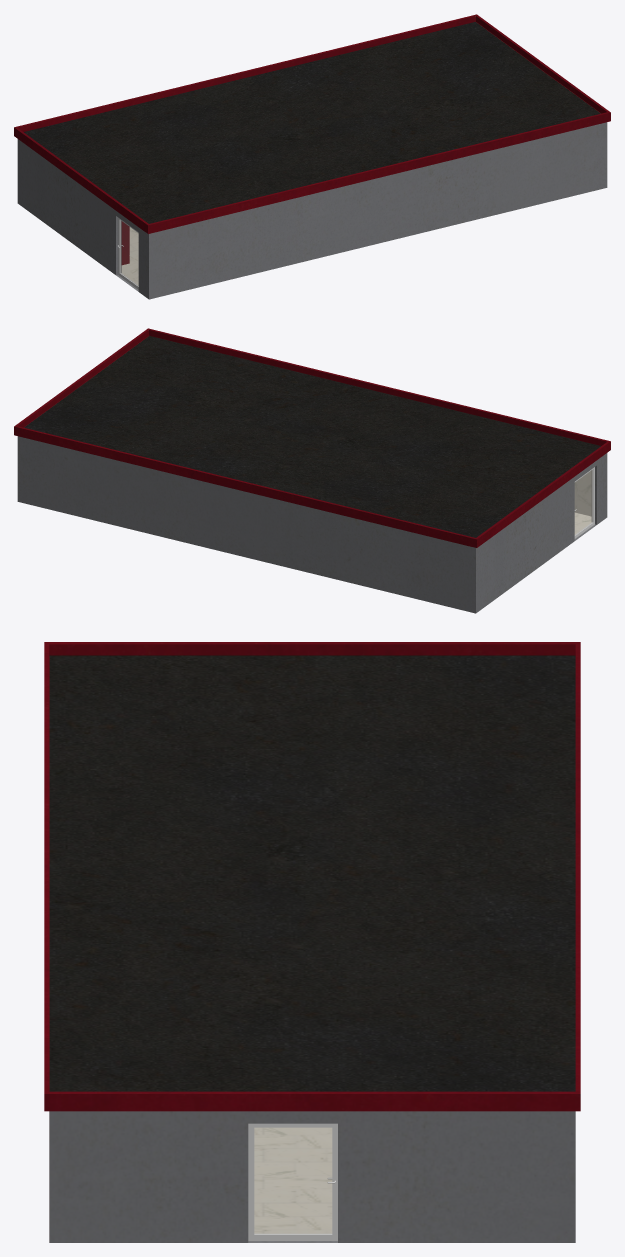
File: shop.glb
3 views of the same model, one above another, from view 1: azimuth 30°, elevation 25°; view 2: azimuth 150°, elevation 25°; view 3: azimuth 270°, elevation 25° (orthographic). The views are drawn at different scales.
Visible parts, largest first — view 1: shop, door_2; view 2: shop, door_2; view 3: shop, door_1.
Part boxes in pixels (x1,y1,x2,y2): shop: (14, 14, 610, 299); door_2: (117, 218, 138, 289); shop: (14, 328, 610, 613); door_2: (574, 467, 594, 538); shop: (44, 642, 580, 1242); door_1: (248, 1123, 337, 1240).
Size of the model in its own units: 16.66 by 2.6 by 8.36.
7 materials, 2 textured.
